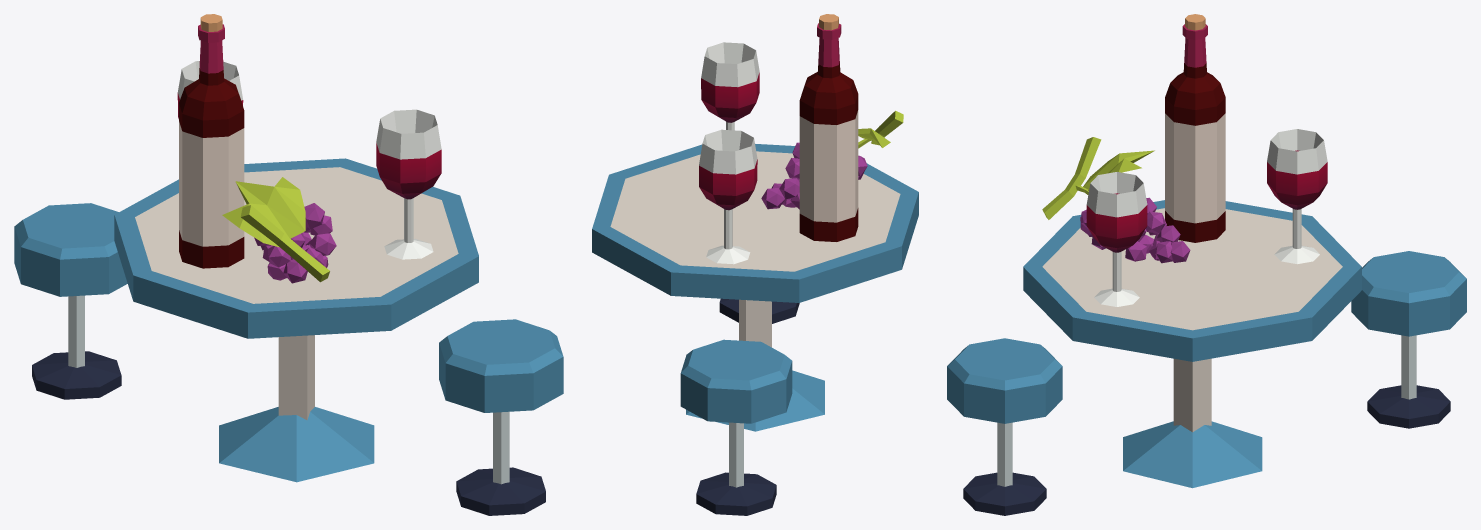
The model's file is tableC.FBX.
3 renders of one model, left to right at view 1: azimuth 30°, elevation 25°; view 2: azimuth 150°, elevation 25°; view 3: azimuth 270°, elevation 25°, orthographic. The views are drawn at different scales.
Parts seen in each view (by area): view 1: tableC; view 2: tableC; view 3: tableC.
Boxes of the visible parts, x1,y1,x2,y2 form: tableC: (14, 14, 563, 515); tableC: (592, 14, 918, 515); tableC: (947, 14, 1466, 515).
Bounding box in the file's own units: 4.84 × 6.3 × 7.42.
